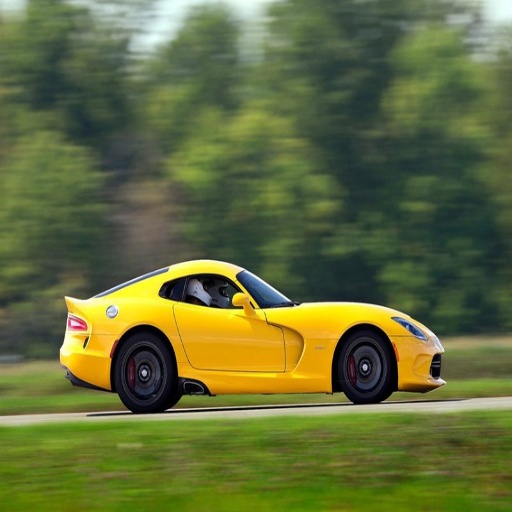front_bumper: (397, 329, 432, 390)
front_right_door: (212, 274, 303, 370)
